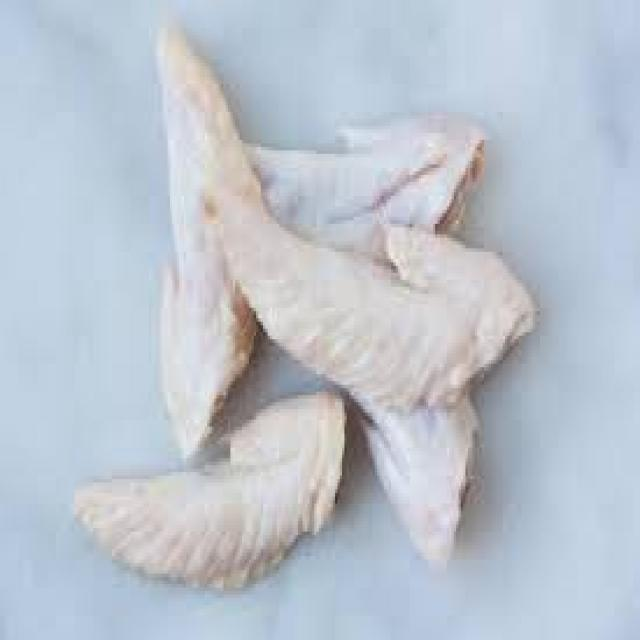chicken: (191, 80, 535, 406), (69, 390, 341, 601)
